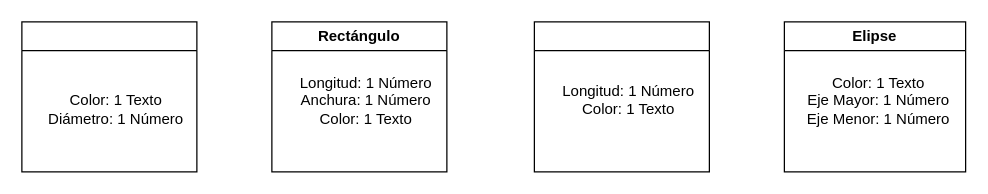
This 988x194 diagram has some shape labels left out. The box of each missing label's shape, as (x1, y1, x2, y2) in pixels:
Cuadrado: (533, 21, 709, 172)
Círculo: (21, 21, 197, 172)
